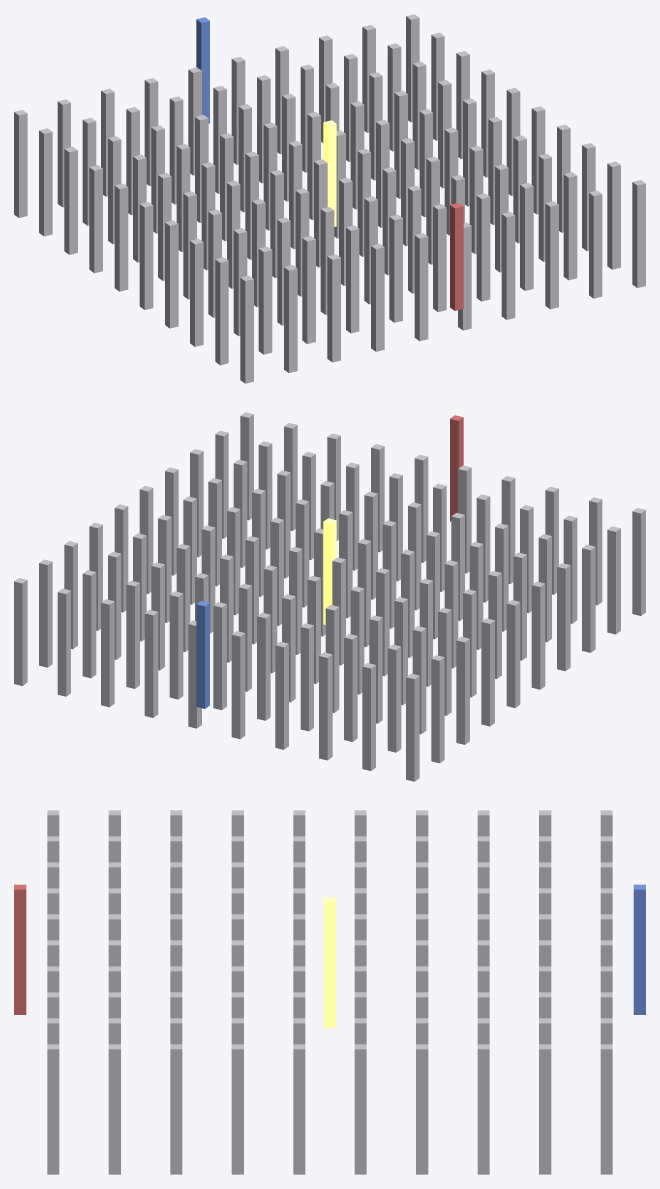
File: Harmonic_Cathedral_v1.gltf
3 views of the same model, one above another, from view 1: azimuth 30°, elevation 25°; view 2: azimuth 150°, elevation 25°; view 3: azimuth 270°, elevation 25° (orthographic). The views are drawn at different scales.
Visible parts, largest first — view 1: Pillar_6_8, Pillar_0_5, Pillar_8_8, Pillar_6_9, Pillar_0_4, Pillar_1_8, Pillar_4_9, Pillar_0_1, Pillar_0_2, Pillar_9_8, Pillar_0_6, Pillar_4_8 (+90 smaller); view 2: Pillar_6_1, Pillar_0_4, Pillar_8_1, Pillar_6_0, Pillar_0_5, Pillar_1_1, Pillar_4_0, Pillar_0_7, Pillar_0_8, Pillar_9_1, Pillar_0_3, Pillar_4_1 (+90 smaller); view 3: Pillar_9_0, Pillar_9_1, Pillar_9_2, Pillar_9_3, Pillar_9_4, Pillar_9_5, Pillar_9_6, Pillar_9_7, Pillar_9_8, Pillar_9_9, ObeliskRed, ObeliskBlue (+1 smaller).
Part boxes in pixels (left/top/right/bottom): Pillar_6_8: left=476, top=193, right=490, bottom=301; Pillar_0_5: left=139, top=202, right=153, bottom=309; Pillar_8_8: left=563, top=172, right=577, bottom=280; Pillar_6_9: left=501, top=212, right=515, bottom=319; Pillar_0_4: left=114, top=183, right=128, bottom=291; Pillar_1_8: left=258, top=246, right=272, bottom=354; Pillar_4_9: left=414, top=233, right=428, bottom=341; Pillar_0_1: left=39, top=128, right=52, bottom=236; Pillar_0_2: left=64, top=146, right=77, bottom=254; Pillar_9_8: left=607, top=161, right=620, bottom=269; Pillar_0_6: left=165, top=220, right=178, bottom=328; Pillar_4_8: left=389, top=214, right=402, bottom=322; Pillar_6_1: left=169, top=591, right=183, bottom=699; Pillar_0_4: left=506, top=600, right=520, bottom=707; Pillar_8_1: left=82, top=570, right=96, bottom=678; Pillar_6_0: left=144, top=610, right=158, bottom=717; Pillar_0_5: left=531, top=581, right=545, bottom=689; Pillar_1_1: left=387, top=644, right=401, bottom=752; Pillar_4_0: left=231, top=631, right=245, bottom=739; Pillar_0_7: left=582, top=544, right=595, bottom=652; Pillar_0_8: left=607, top=526, right=620, bottom=634; Pillar_9_1: left=39, top=559, right=52, bottom=667; Pillar_0_3: left=481, top=618, right=494, bottom=726; Pillar_4_1: left=257, top=612, right=270, bottom=720; Pillar_9_0: left=600, top=1044, right=612, bottom=1174; Pillar_9_1: left=539, top=1044, right=551, bottom=1174; Pillar_9_2: left=477, top=1044, right=489, bottom=1174; Pillar_9_3: left=416, top=1044, right=428, bottom=1174; Pillar_9_4: left=354, top=1044, right=366, bottom=1174; Pillar_9_5: left=293, top=1044, right=305, bottom=1174; Pillar_9_6: left=231, top=1044, right=243, bottom=1174; Pillar_9_7: left=170, top=1044, right=182, bottom=1174; Pillar_9_8: left=108, top=1044, right=120, bottom=1174; Pillar_9_9: left=47, top=1044, right=59, bottom=1174; ObeliskRed: left=14, top=884, right=26, bottom=1014; ObeliskBlue: left=633, top=884, right=645, bottom=1014.
Bounding box in the file's own units: 10.22 × 3.35 × 11.42.
